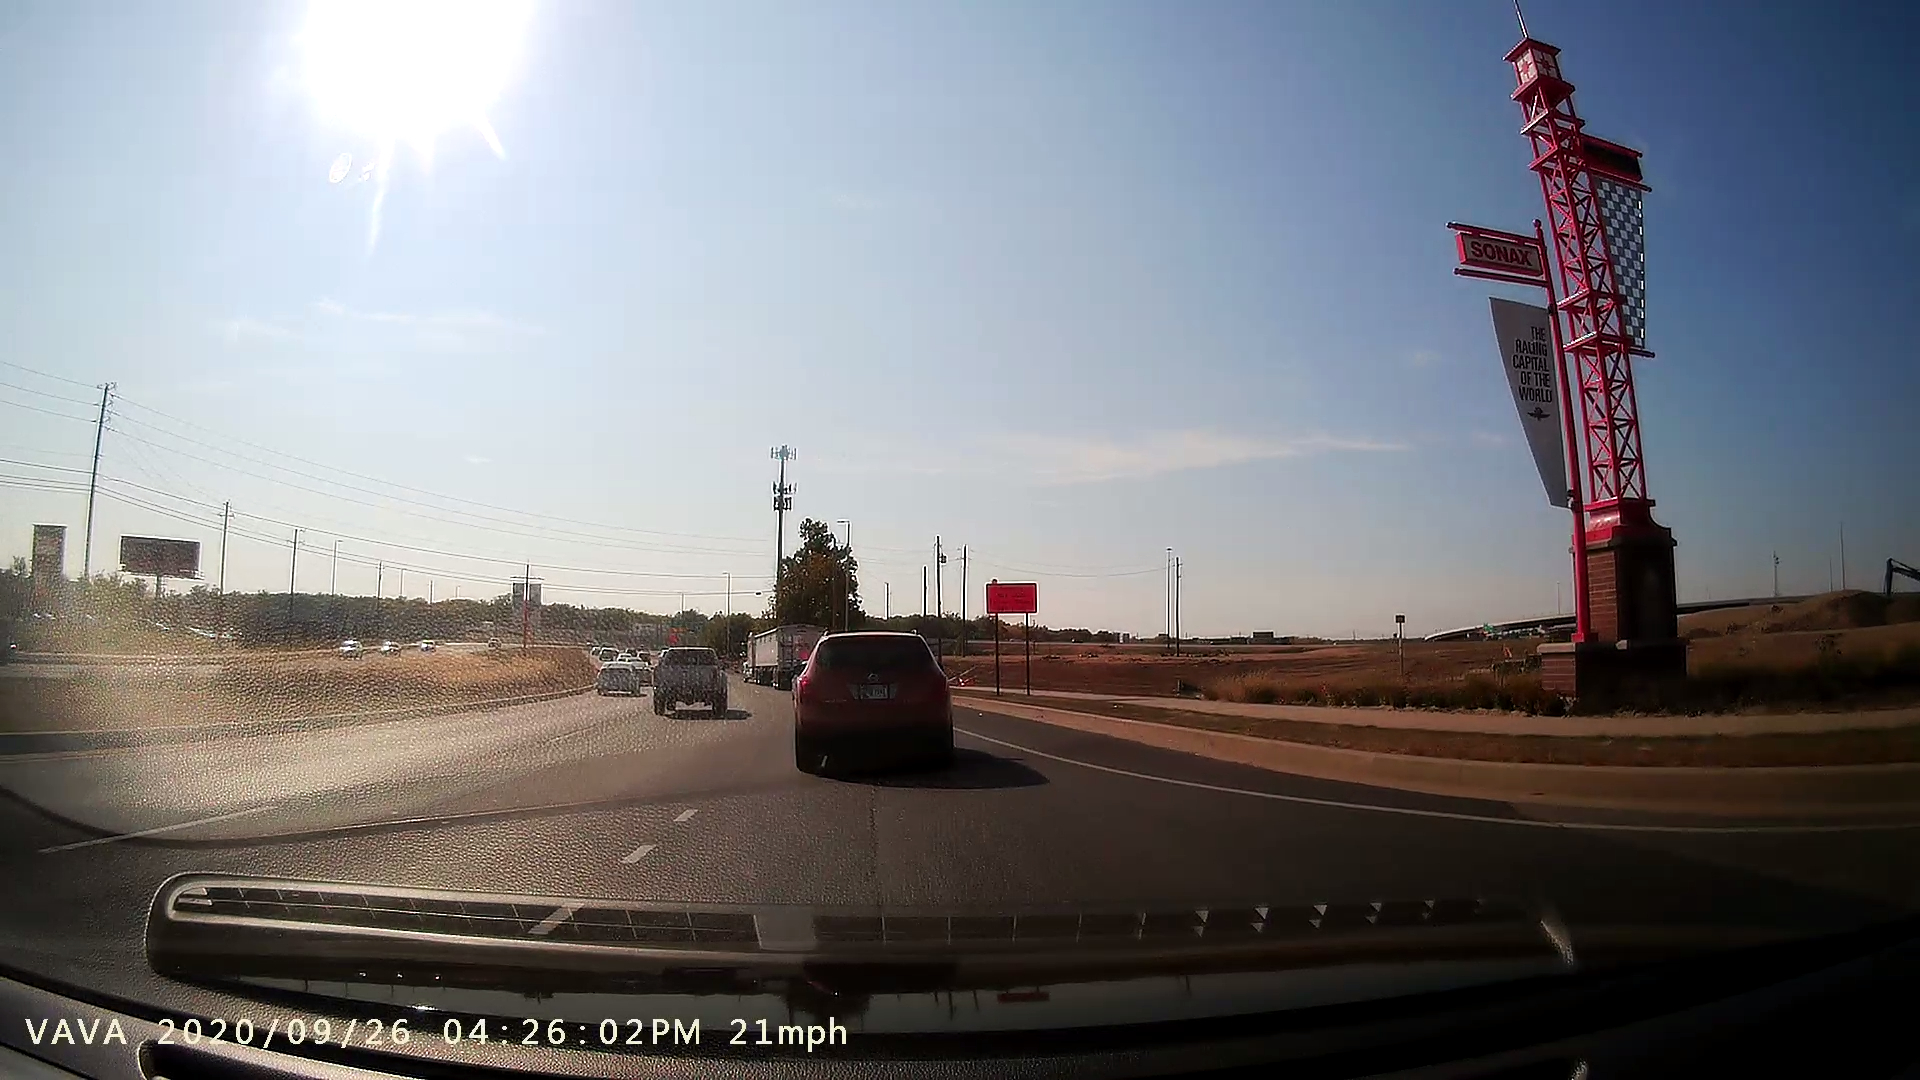temperary_sign: (981, 563, 1044, 698)
